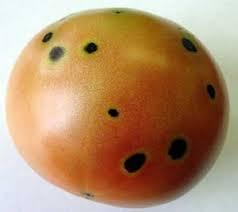tomato bacterial spot: (7, 9, 232, 210)
